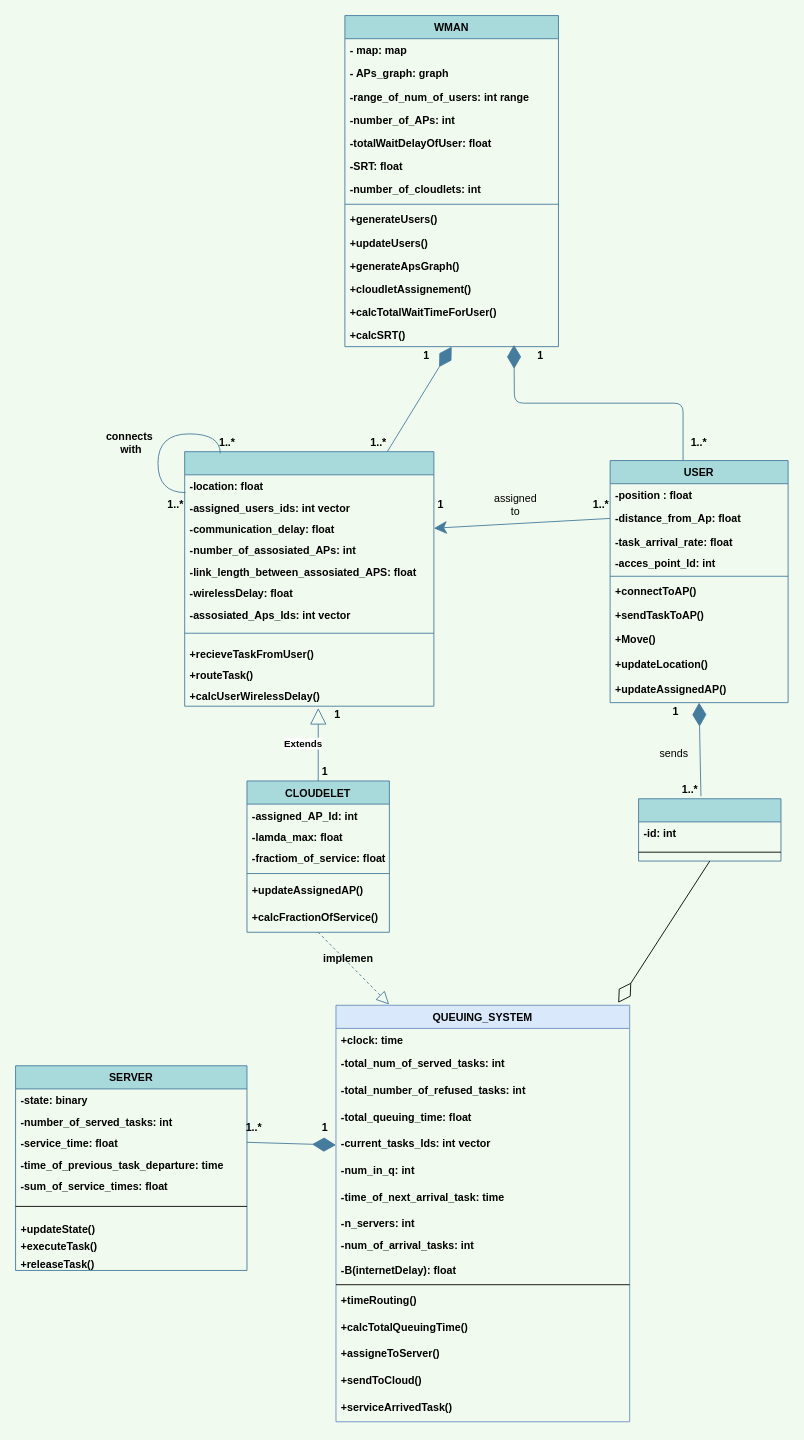
The diagram is 804 pixels wide and 1440 high, and some of its shapes have lost their labels. Here are the shapes that lost their labels. From the top down, the box of each, then its label:
(184, 451, 434, 706): AP (acess point)
(638, 798, 781, 861): TASK
